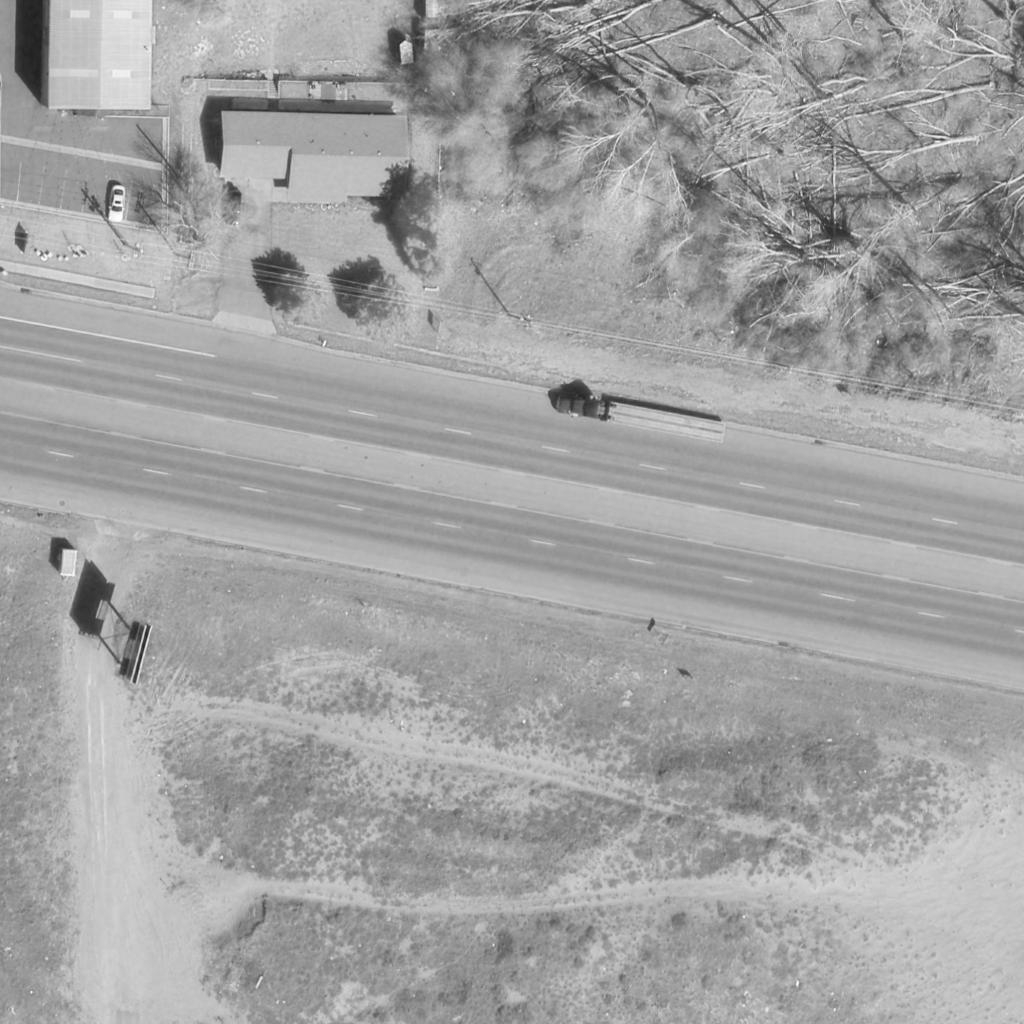vehicle: (554, 391, 726, 447), (107, 186, 129, 224)
